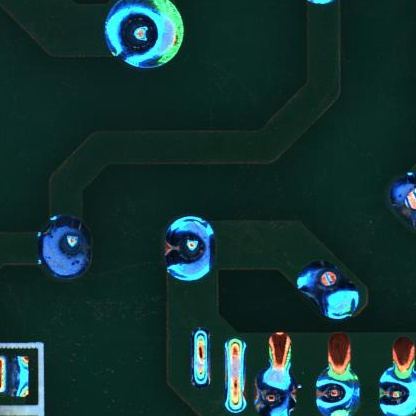spot: (103, 1, 186, 71), (297, 260, 361, 323), (164, 215, 218, 282), (38, 214, 93, 278), (315, 368, 363, 416), (254, 366, 298, 416), (375, 368, 416, 415)
